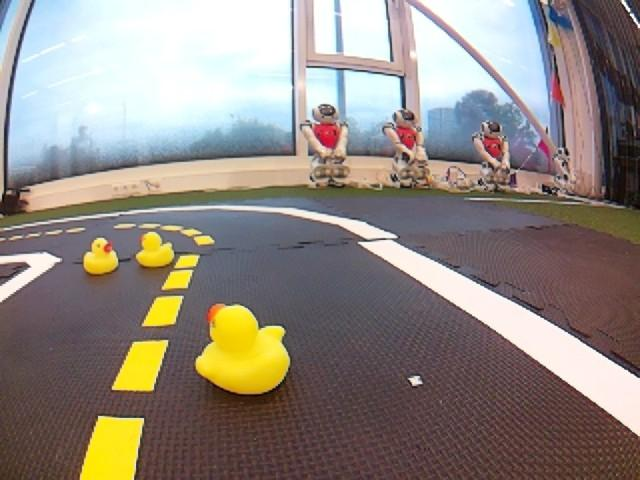Duckies: (197, 306, 290, 394), (84, 239, 117, 274), (137, 234, 172, 267)
